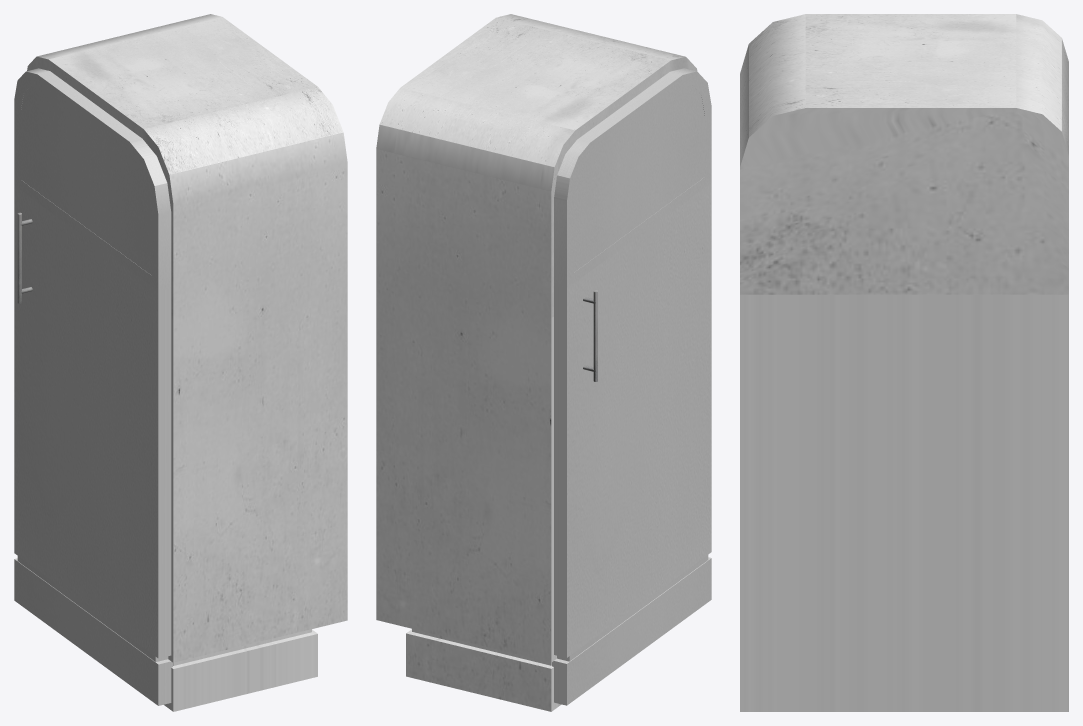
Rendered from Fridge.fbx.
The picture shows the model from 3 angles, left to right: view 1: azimuth 30°, elevation 25°; view 2: azimuth 150°, elevation 25°; view 3: azimuth 270°, elevation 25°; orthographic projection. The views are drawn at different scales.
Visible parts, largest first — view 1: pCube981, pCube983; view 2: pCube981, pCube983; view 3: pCube981.
Part boxes in pixels (x1=…): pCube981: x1=27, y1=14, x2=347, y2=711; pCube983: x1=14, y1=68, x2=172, y2=705; pCube981: x1=376, y1=14, x2=697, y2=711; pCube983: x1=552, y1=68, x2=711, y2=705; pCube981: x1=740, y1=14, x2=1068, y2=711.
Bounding box in the file's own units: 104 × 279 × 134.
